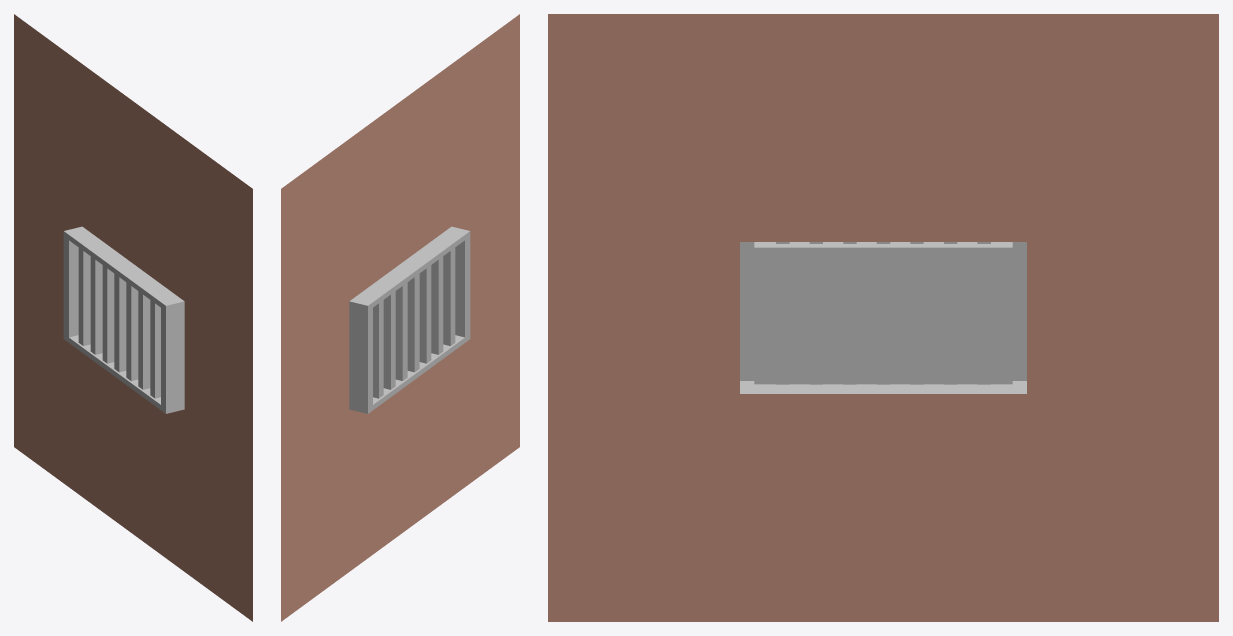
Rendered from Wall_Vent.fbx.
3 renders of one model, left to right at view 1: azimuth 30°, elevation 25°; view 2: azimuth 150°, elevation 25°; view 3: azimuth 270°, elevation 25°, orthographic. The views are drawn at different scales.
Visible parts, largest first — view 1: Wall_Vent; view 2: Wall_Vent; view 3: Wall_Vent.
Part boxes in pixels (x1=…): Wall_Vent: x1=14, y1=14, x2=252, y2=621; Wall_Vent: x1=281, y1=14, x2=519, y2=621; Wall_Vent: x1=548, y1=14, x2=1218, y2=621.
Size of the model in its own units: 9.01 by 200 by 200.
